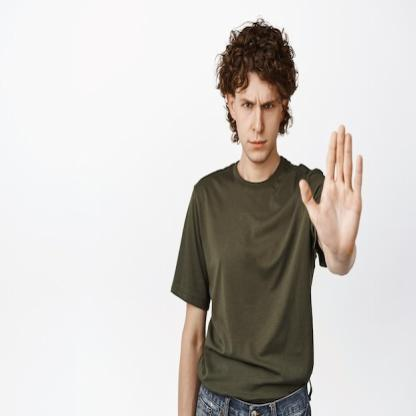stop: (298, 122, 366, 258)
